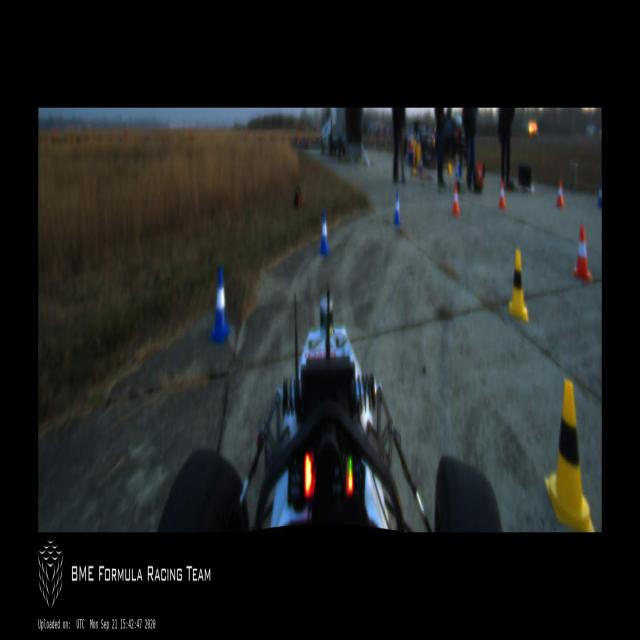blue_cone: (209, 263, 231, 343), (318, 209, 330, 257), (394, 191, 401, 226), (598, 182, 602, 209)
orange_cone: (573, 228, 591, 277), (556, 180, 565, 208), (452, 183, 459, 214), (499, 181, 506, 208)
yellow_cone: (546, 378, 594, 532), (510, 249, 529, 320), (412, 158, 416, 176)
